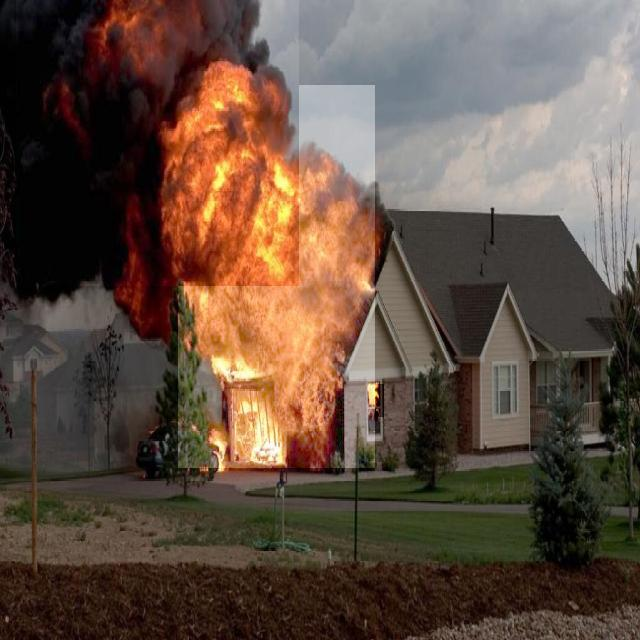Fire: (178, 85, 375, 468), (368, 384, 384, 417)
Smoke: (16, 0, 299, 286)
